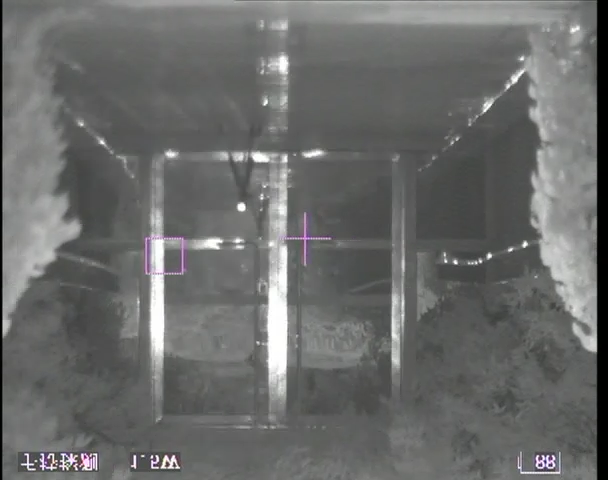my: (235, 202, 249, 213)
